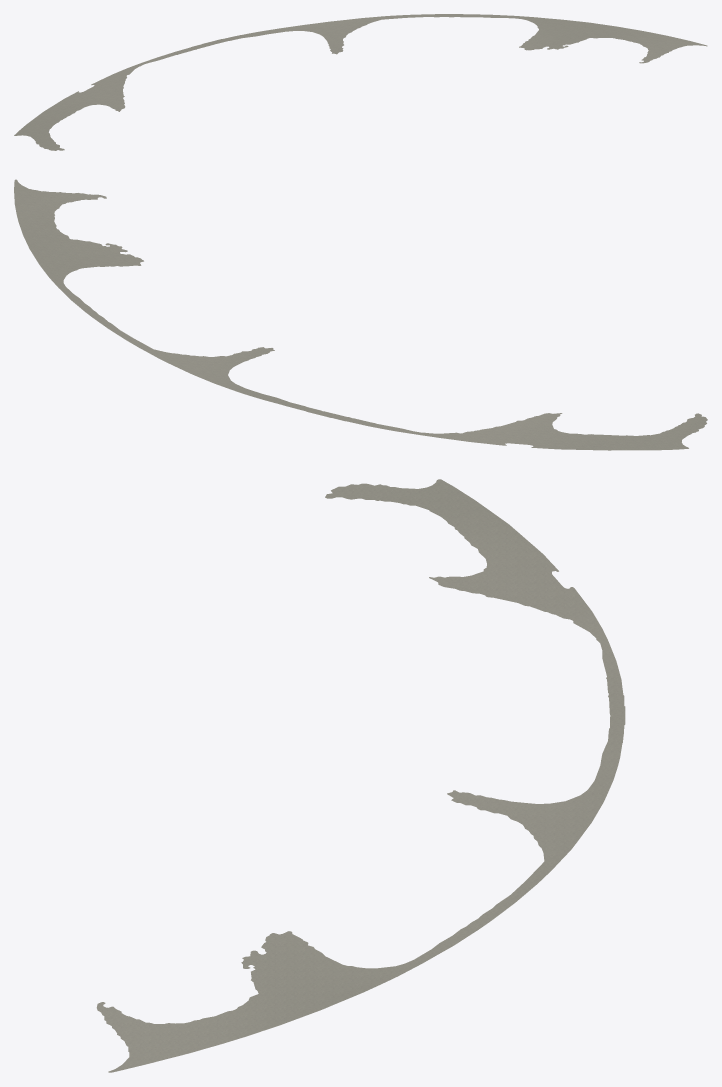
File: path_01.glb
3 views of the same model, one above another, from view 1: azimuth 30°, elevation 25°; view 2: azimuth 150°, elevation 25°; view 3: azimuth 270°, elevation 25° (orthographic). The views are drawn at different scales.
Parts seen in each view (by area): view 1: path_01.surface; view 2: path_01.surface; view 3: path_01.surface.
Boxes of the visible parts, bbox=[...] form: path_01.surface: bbox=[14, 14, 707, 150]; path_01.surface: bbox=[14, 179, 707, 450]; path_01.surface: bbox=[96, 479, 625, 1072].
Size of the model in its own units: 146 by 0.6617 by 54.9.
Materials: 1 (1 with a texture image).
